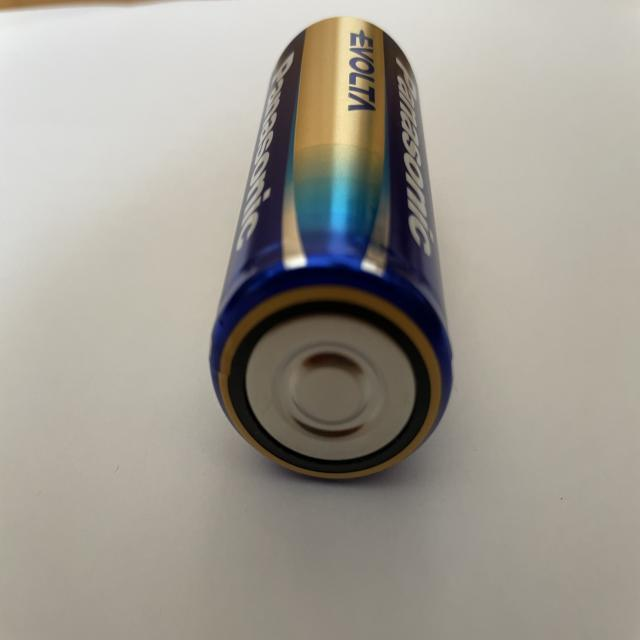AA: (205, 11, 462, 484)
